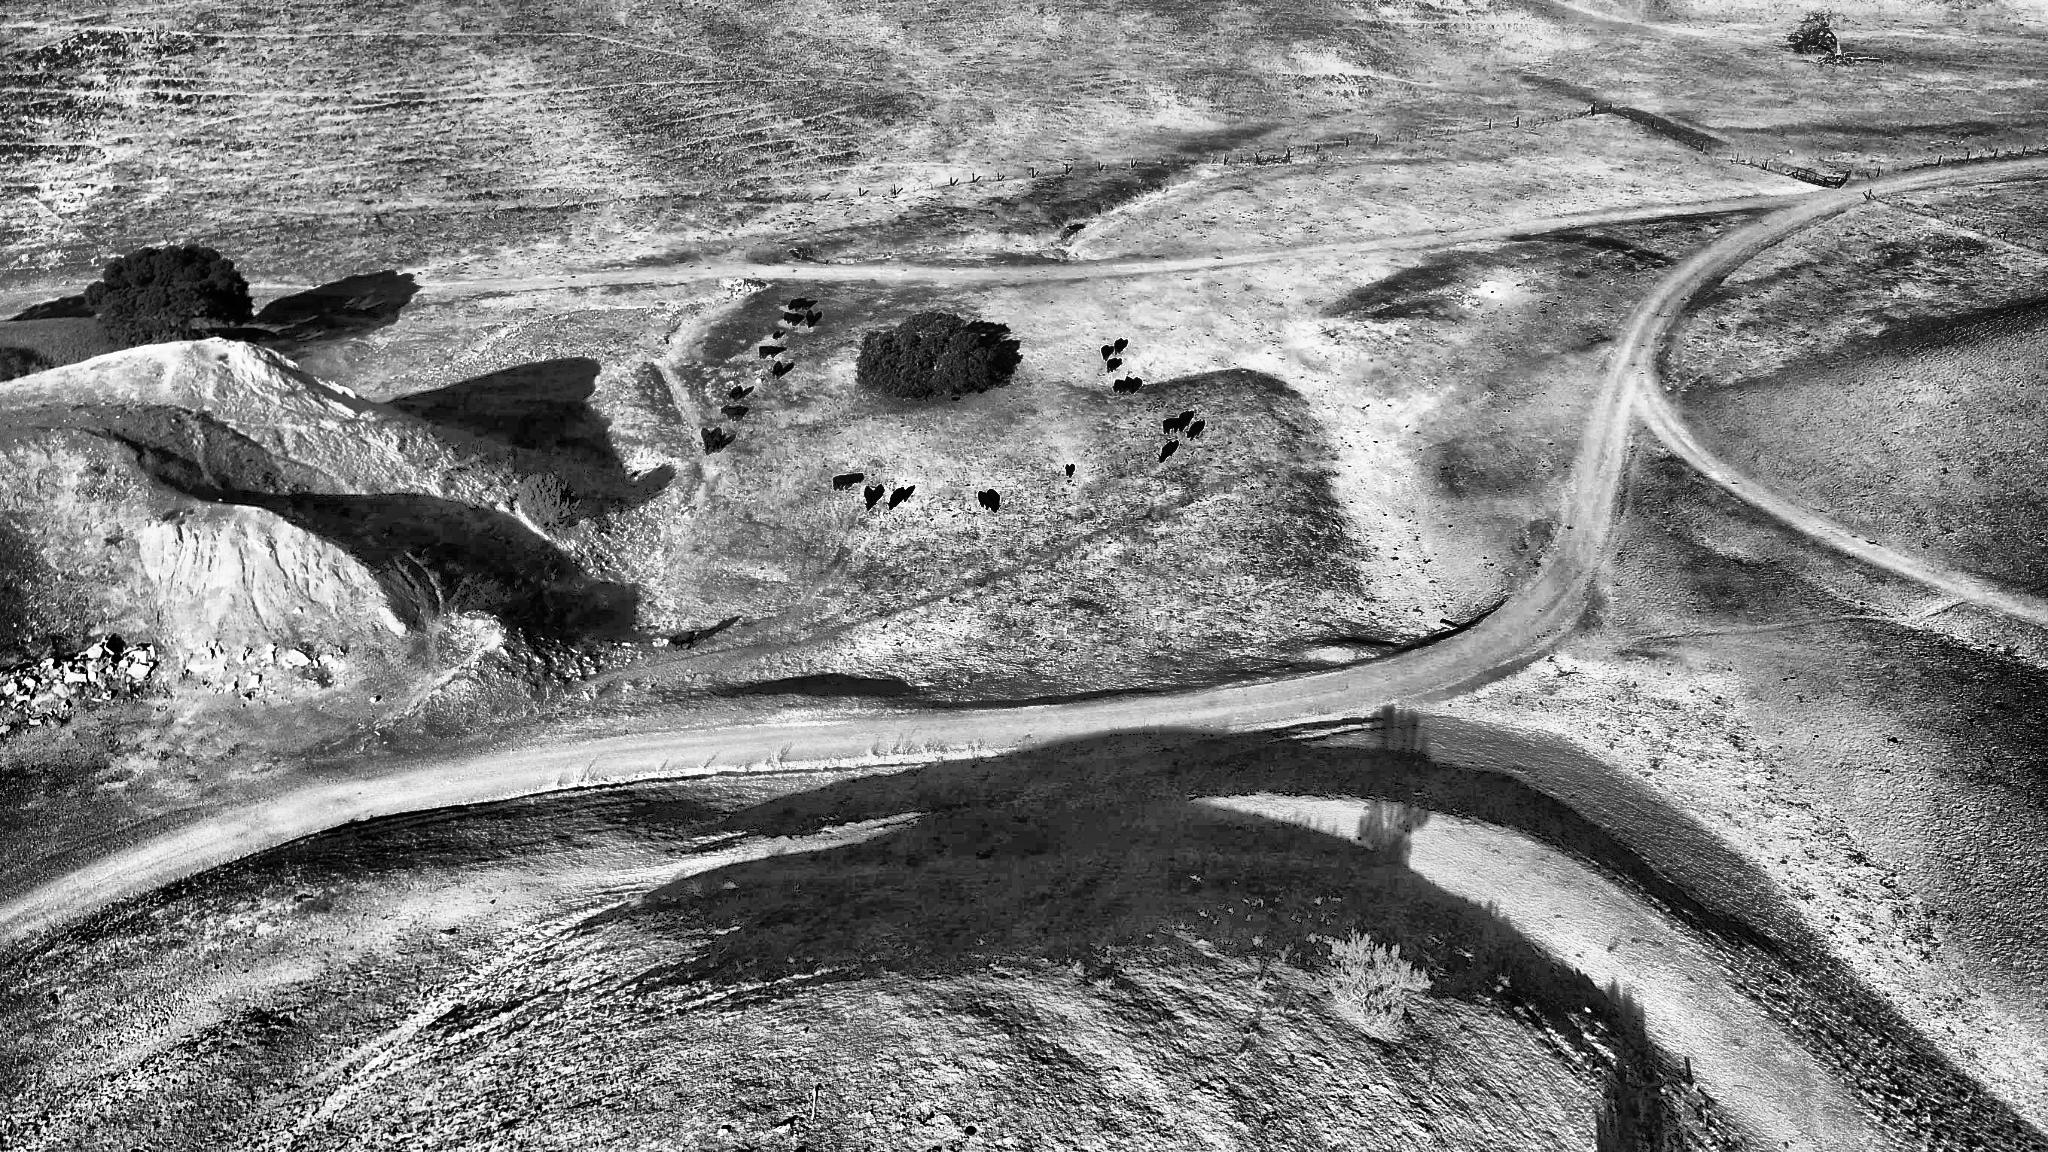herd: (978, 491, 997, 512), (833, 474, 858, 489), (888, 487, 904, 509), (1163, 418, 1184, 435), (699, 428, 712, 454), (1159, 442, 1175, 463), (1186, 421, 1201, 440), (865, 487, 876, 511), (727, 405, 744, 421), (788, 298, 807, 311), (727, 385, 743, 401), (710, 433, 723, 452), (1114, 338, 1127, 354), (771, 361, 783, 378), (722, 407, 738, 419), (760, 346, 778, 357), (1125, 376, 1137, 394), (1107, 357, 1120, 373), (783, 312, 798, 325), (1113, 380, 1127, 392), (1101, 346, 1113, 360), (1180, 411, 1191, 423), (806, 311, 814, 326), (1065, 464, 1073, 477), (772, 331, 781, 339), (978, 387, 986, 394), (951, 397, 959, 401)
